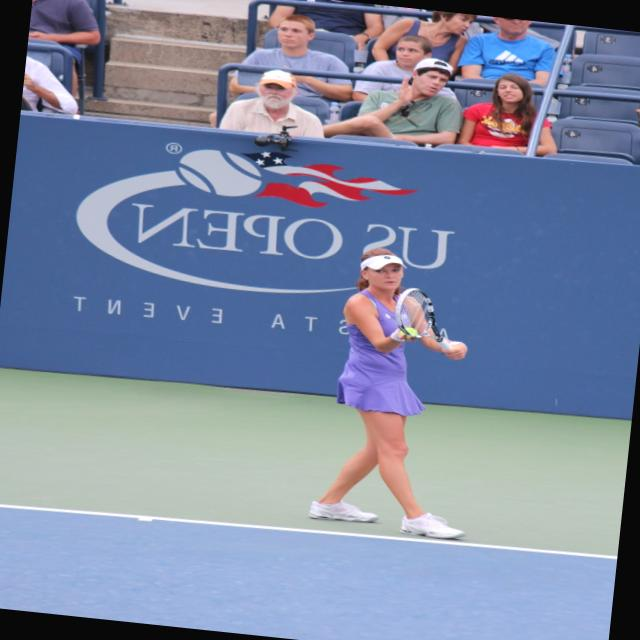Tennis Ball: (402, 325, 421, 336)
